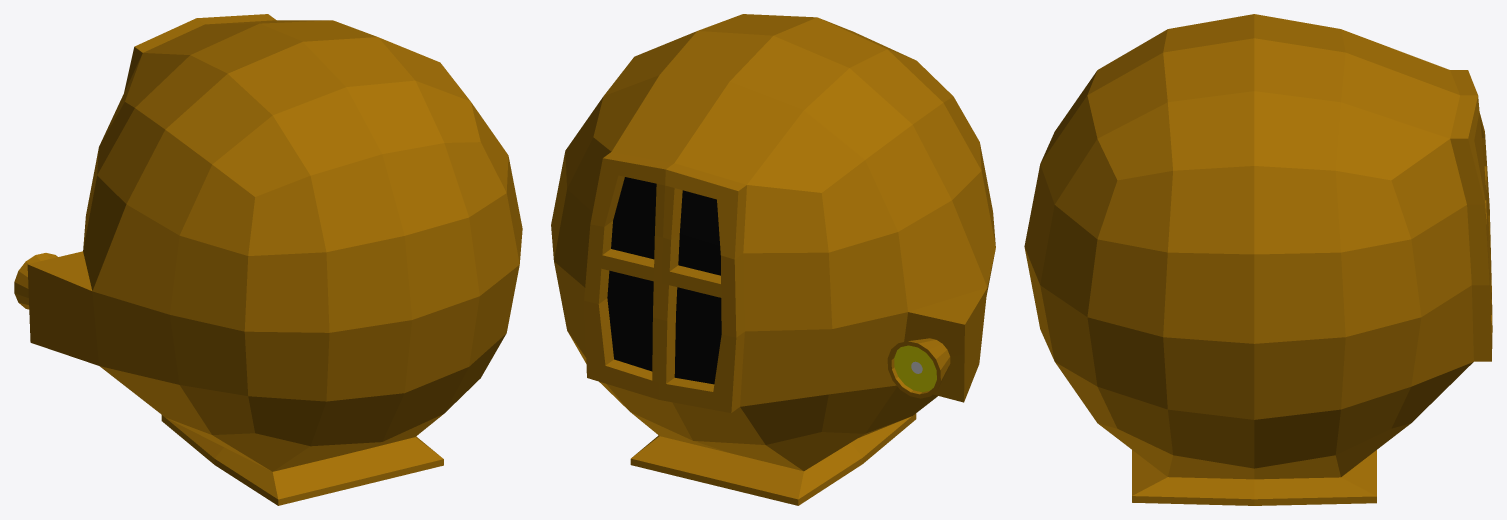
Rendered from HelmetLoadingScreenITERATION1.fbx.
3 views of the same model, side by side, from view 1: azimuth 30°, elevation 25°; view 2: azimuth 150°, elevation 25°; view 3: azimuth 270°, elevation 25° (orthographic). The views are drawn at different scales.
Parts seen in each view (by area): view 1: Helmet; view 2: Helmet; view 3: Helmet.
Boxes of the visible parts, box(x1,y1,x2,y2) form: Helmet: box(14, 14, 522, 505); Helmet: box(551, 14, 995, 505); Helmet: box(1024, 14, 1492, 505).
Size of the model in its own units: 422 by 384 by 386.
